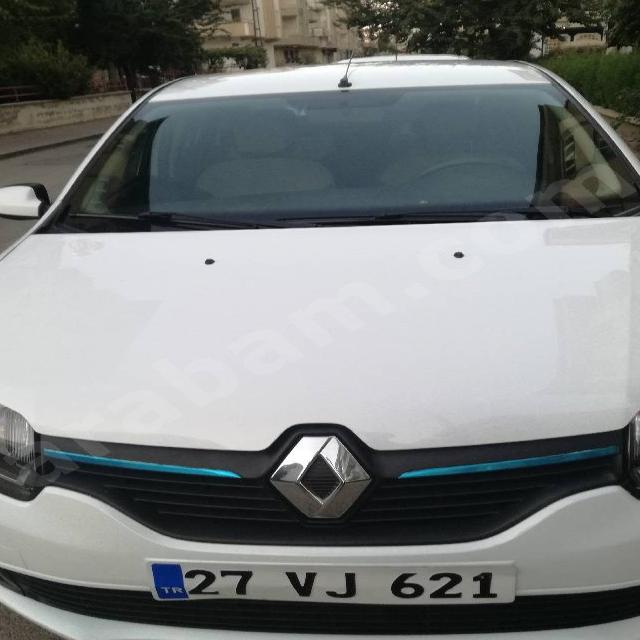license_plate: (148, 562, 517, 605)
